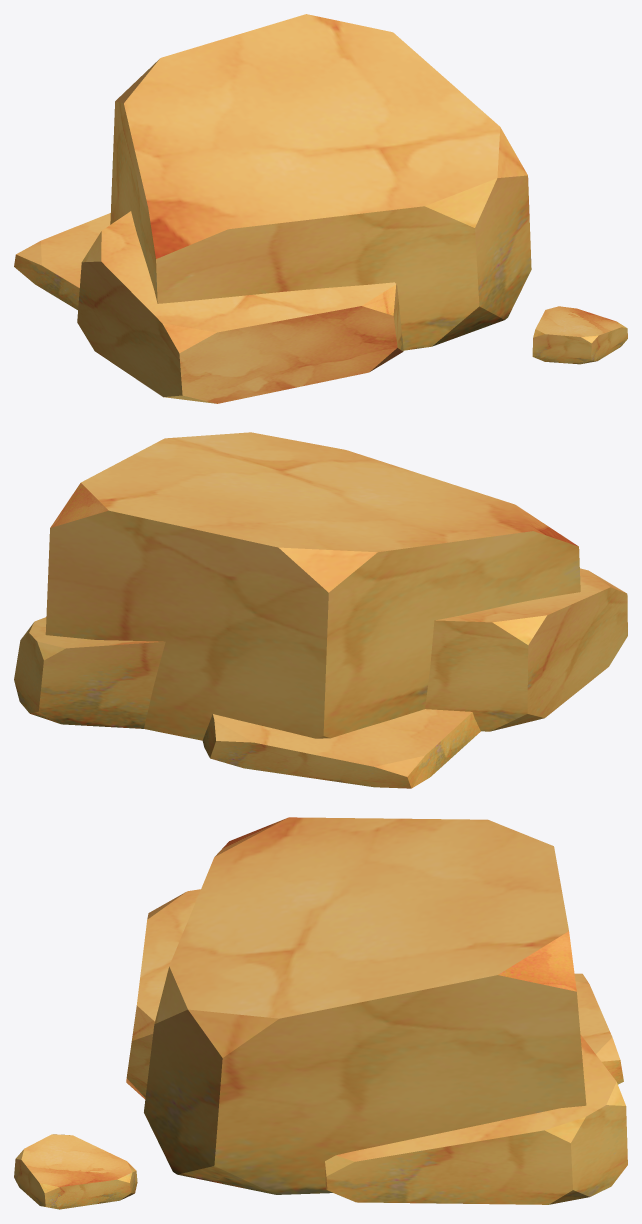
File: rockdesert001.glb
The picture shows the model from 3 angles, top to bottom: view 1: azimuth 30°, elevation 25°; view 2: azimuth 150°, elevation 25°; view 3: azimuth 270°, elevation 25°; orthographic projection. The views are drawn at different scales.
Visible parts, largest first — view 1: rockDesert001.001; view 2: rockDesert001.001; view 3: rockDesert001.001.
Part boxes in pixels (bbox=[...]): rockDesert001.001: bbox=[14, 14, 627, 403]; rockDesert001.001: bbox=[14, 432, 627, 788]; rockDesert001.001: bbox=[14, 817, 627, 1209].
Size of the model in its own units: 0.8373 by 0.3715 by 0.9252.
Materials: 1 (1 with a texture image).
